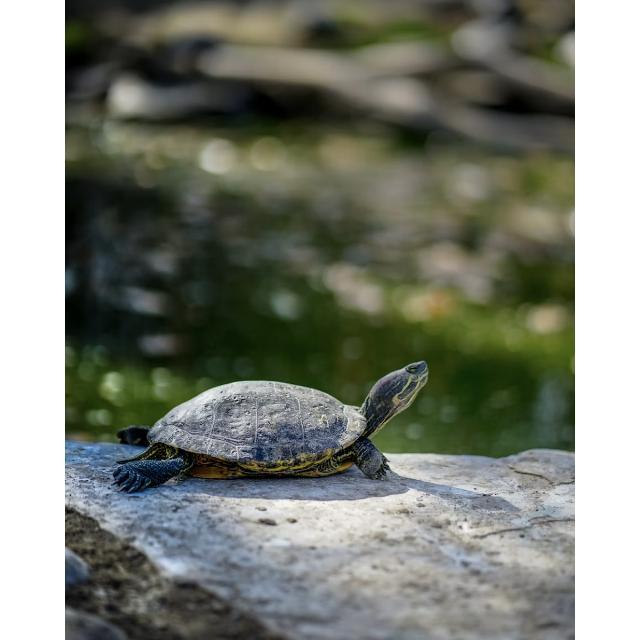turtle: (113, 360, 429, 494)
